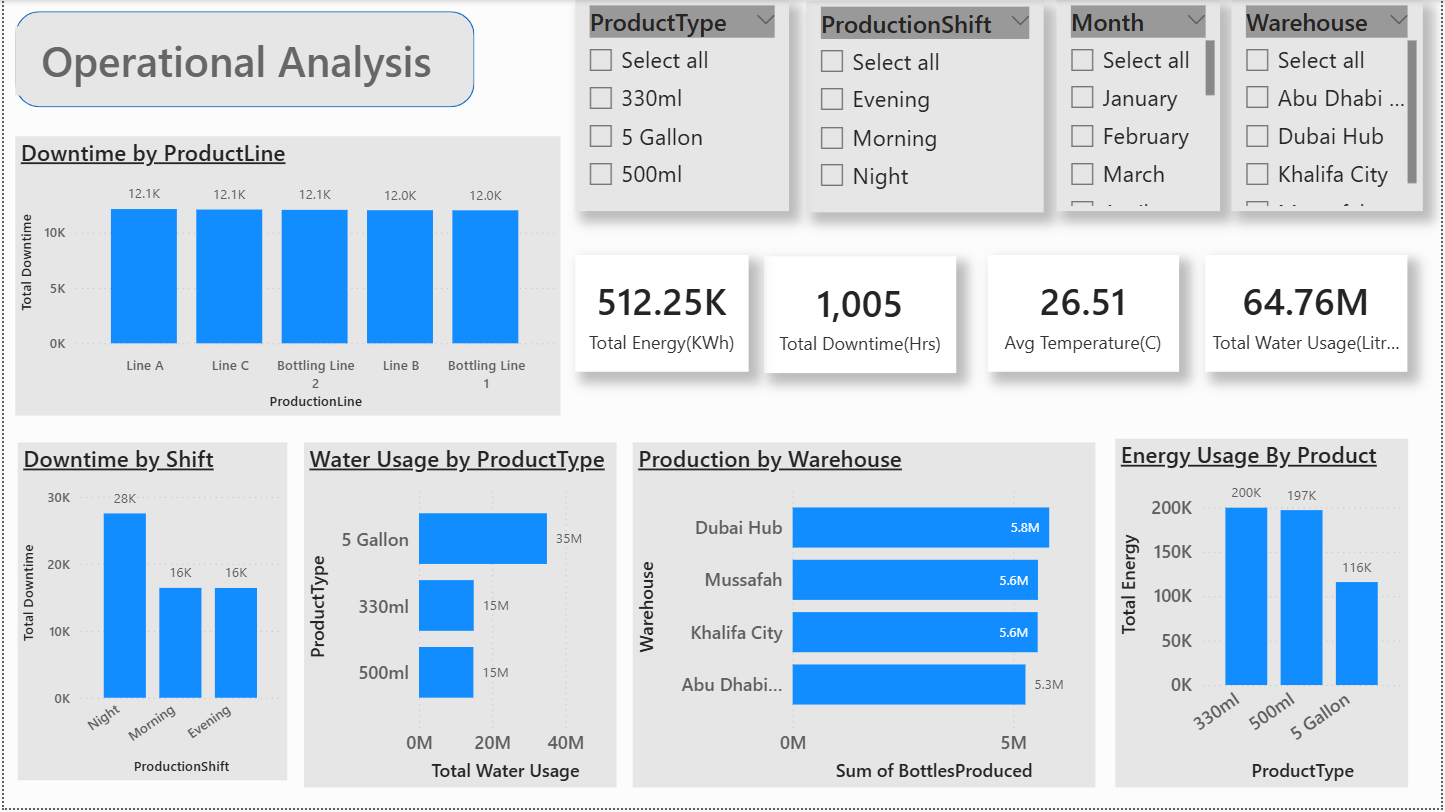

What the dashboard file says about the page in this screenshot:
{"tool":"powerbi","page":{"name":"Operational Analysis","canvas":[1280,720],"ordinal":3},"visuals":[{"type":"shape","box":[10,10,409.1,85.5],"z":1000},{"type":"textbox","box":[9.6,23.3,393.8,61.7],"z":2000},{"type":"slicer","fields":{"Values":["Rawda_procudtion_sales.ProductionShift"]},"box":[714.9,1.4,211.3,188],"z":3000},{"type":"slicer","fields":{"Values":["Rawda_procudtion_sales.ProductType"]},"box":[509.1,0,190.7,188],"z":4000},{"type":"card","fields":{"Values":["Rawda_production_sales.Total Downtime Hours"]},"box":[676.5,227.8,171.5,104.3],"z":5000},{"type":"card","fields":{"Values":["Rawda_production_sales.Total Energy"]},"box":[508.6,227.1,154.3,104.3],"z":6000},{"type":"card","fields":{"Values":["Rawda_production_sales.Total Water Usage"]},"box":[1070,227.1,180,104.3],"z":7000},{"type":"card","fields":{"Values":["Rawda_production_sales.Avg Temperature"]},"box":[875.7,227.1,170,104.3],"z":8000},{"type":"clusteredColumnChart","title":"Downtime by Shift","fields":{"Category":["Rawda_production_sales.ProductionShift"],"Y":["Rawda_production_sales.Total Downtime"]},"box":[12.3,393.8,240.1,300.5],"z":9000},{"type":"clusteredBarChart","title":"Water Usage by ProductType","fields":{"Category":["Rawda_procudtion_sales.ProductType"],"Y":["Rawda_production_sales.Total Water Usage"]},"box":[267.6,393.8,278.6,307.4],"z":10000},{"type":"slicer","fields":{"Values":["Rawda_procudtion_sales.DateFinal.Variation.Date Hierarchy.Month"]},"box":[937.2,0,145.5,188],"z":11000},{"type":"clusteredColumnChart","title":"Downtime by ProductLine","fields":{"Y":["Rawda_production_sales.Total Downtime"],"Category":["Rawda_production_sales.ProductionLine"]},"box":[10,121.4,485.7,248.6],"z":12000},{"type":"clusteredColumnChart","title":"Energy Usage By Product","fields":{"Category":["Rawda_production_sales.ProductType"],"Y":["Rawda_production_sales.Total Energy"]},"box":[989.4,391.1,260.7,310.1],"z":13000},{"type":"slicer","fields":{"Values":["Rawda_production_sales.Warehouse"]},"box":[1093.7,0,170.2,188],"z":14000},{"type":"clusteredBarChart","title":"Production by Warehouse","fields":{"Category":["Rawda_production_sales.Warehouse"],"Y":["Sum(Rawda_production_sales.BottlesProduced)"]},"box":[559.9,393.8,411.7,307.4],"z":15000}]}

Visuals, with their boxes in screenshot pixels (x1, y1, x2, y2), scaled from the page's 1280x720 canvas onto the 1445x812 screenshot:
shape: 11/11/473/108
textbox: 11/26/455/96
slicer - Rawda_procudtion_sales.ProductionShift: 807/2/1046/214
slicer - Rawda_procudtion_sales.ProductType: 575/0/790/212
card - Rawda_production_sales.Total Downtime Hours: 764/257/957/375
card - Rawda_production_sales.Total Energy: 574/256/748/374
card - Rawda_production_sales.Total Water Usage: 1208/256/1411/374
card - Rawda_production_sales.Avg Temperature: 989/256/1180/374
"Downtime by Shift" clusteredColumnChart: 14/444/285/783
"Water Usage by ProductType" clusteredBarChart: 302/444/617/791
slicer - Rawda_procudtion_sales.DateFinal.Variation.Date Hierarchy.Month: 1058/0/1222/212
"Downtime by ProductLine" clusteredColumnChart: 11/137/560/417
"Energy Usage By Product" clusteredColumnChart: 1117/441/1411/791
slicer - Rawda_production_sales.Warehouse: 1235/0/1427/212
"Production by Warehouse" clusteredBarChart: 632/444/1097/791
